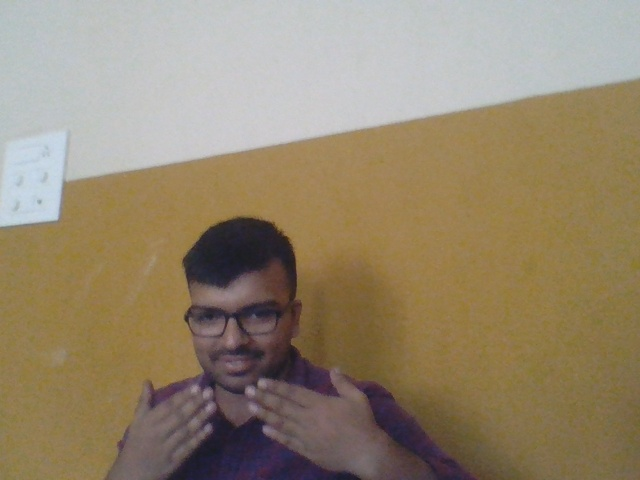Thank You: (101, 368, 409, 480)
